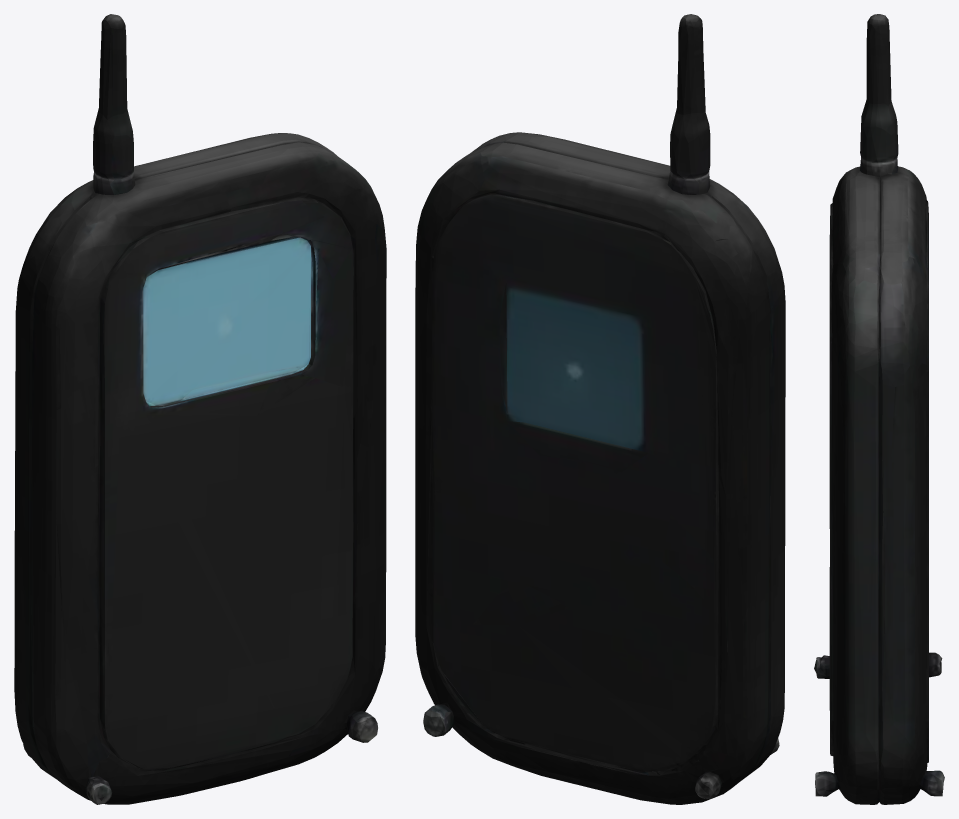
File: cat_scanner.glb
The picture shows the model from 3 angles, left to right: view 1: azimuth 30°, elevation 25°; view 2: azimuth 150°, elevation 25°; view 3: azimuth 270°, elevation 25°; orthographic projection. The views are drawn at different scales.
Parts seen in each view (by area): view 1: geometry_0; view 2: geometry_0; view 3: geometry_0.
Boxes of the visible parts, left/top/right/bottom form: geometry_0: left=14, top=14, right=386, bottom=804; geometry_0: left=415, top=14, right=785, bottom=804; geometry_0: left=814, top=14, right=944, bottom=804.
Bounding box in the file's own units: 0.4562 × 0.9994 × 0.1668.
1 material, 1 textured.
